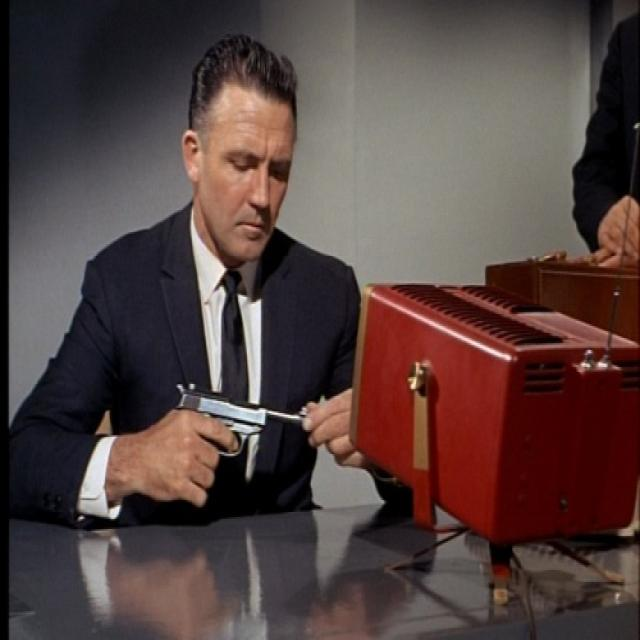weapons: (166, 360, 320, 512)
